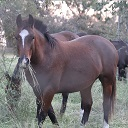caballo: (12, 17, 116, 127)
